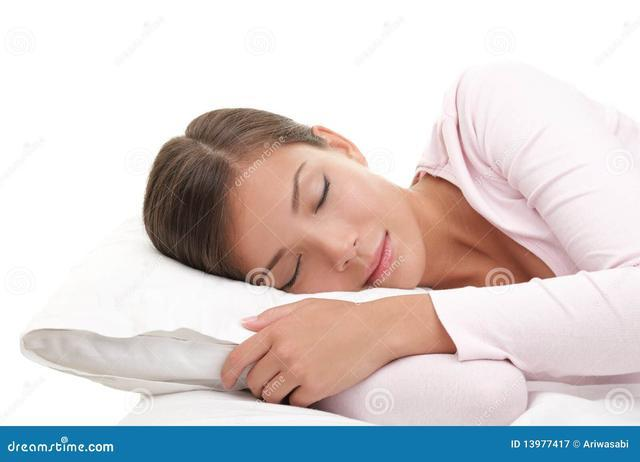sleep: (228, 136, 426, 294)
